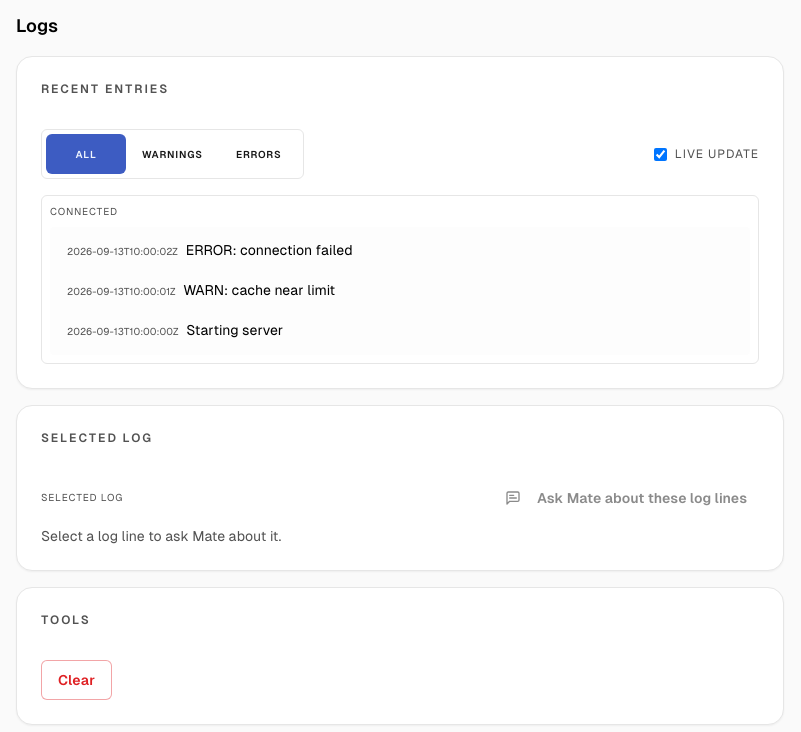
it: LogsSection › filters log entries by All, Warnings, and Errors
This screenshot has width=801, height=732.
Check: the button "All" is shown, box top-left (46, 134), bottom-right (126, 174)
Check: the button "Errors" is shown, box top-left (219, 134), bottom-right (299, 174)
Click the button "Warnings" at {"x": 172, "y": 154}, box top-left (130, 134), bottom-right (215, 174)
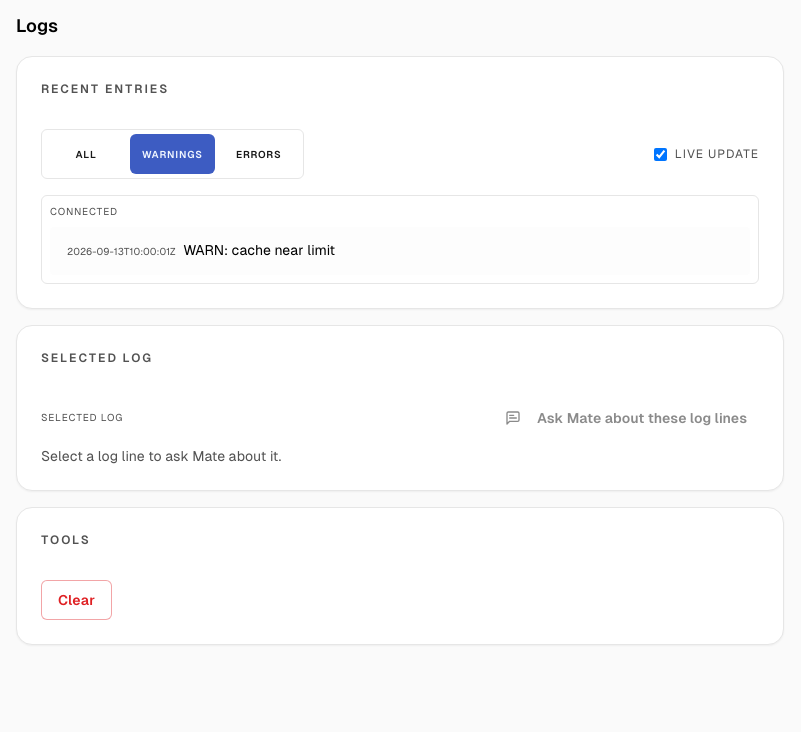
Check: the text "WARN: cache near limit" is shown, box top-left (184, 242), bottom-right (335, 258)
Check: the button "ERROR: connection failed" is gone
Click the button "Errors" at {"x": 259, "y": 154}, box top-left (219, 134), bottom-right (299, 174)
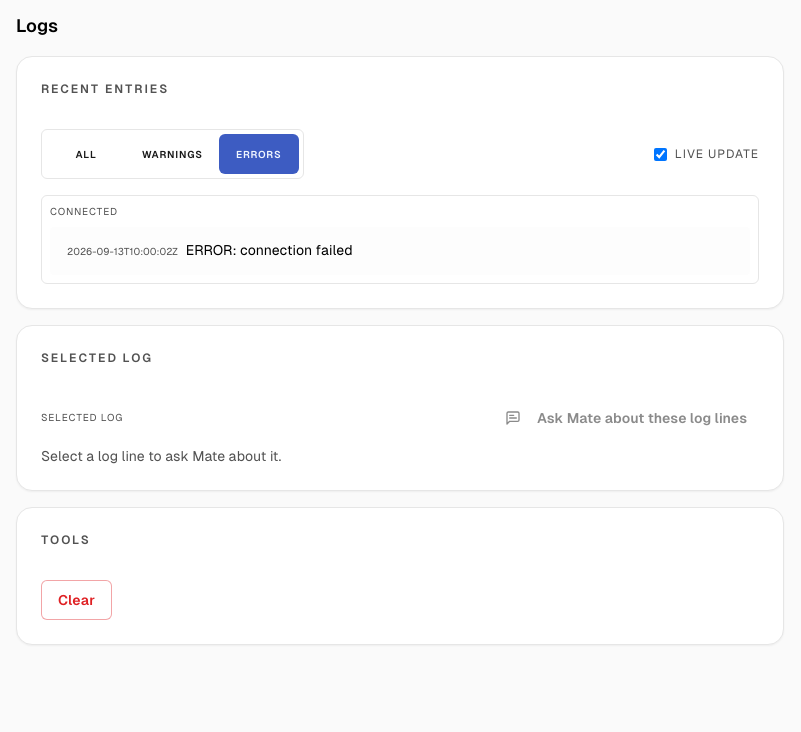
Check: the text "ERROR: connection failed" is shown, box top-left (186, 242), bottom-right (353, 258)
Check: the button "WARN: cache near limit" is gone
